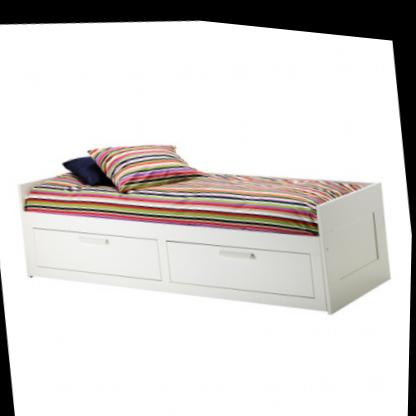Bed: (7, 94, 404, 353)
